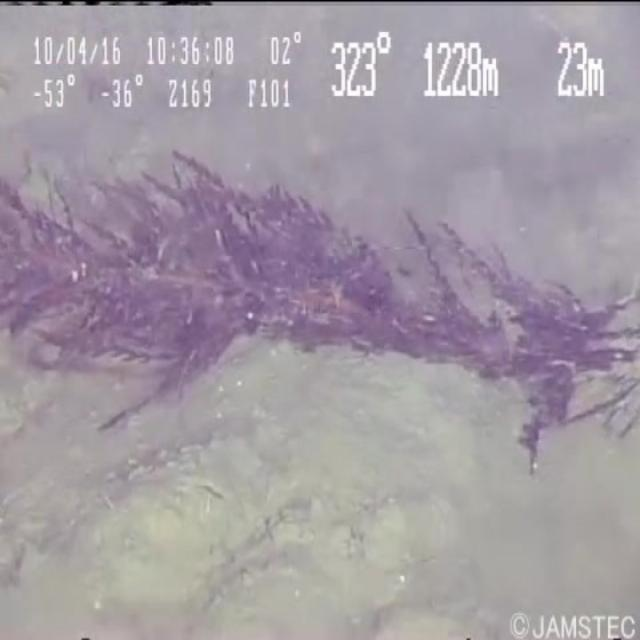Natual-Debris: (0, 144, 636, 466)
